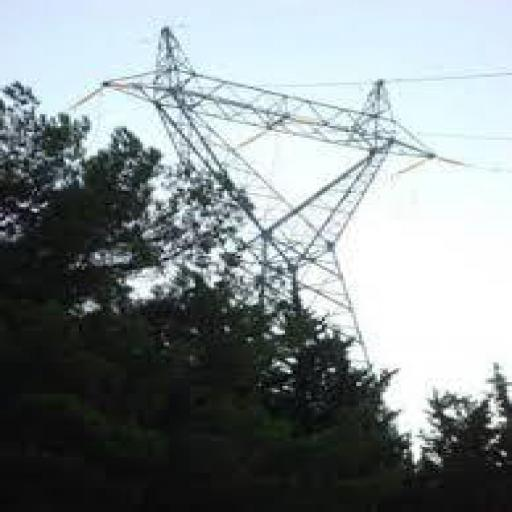wt_6: (98, 28, 436, 420)
